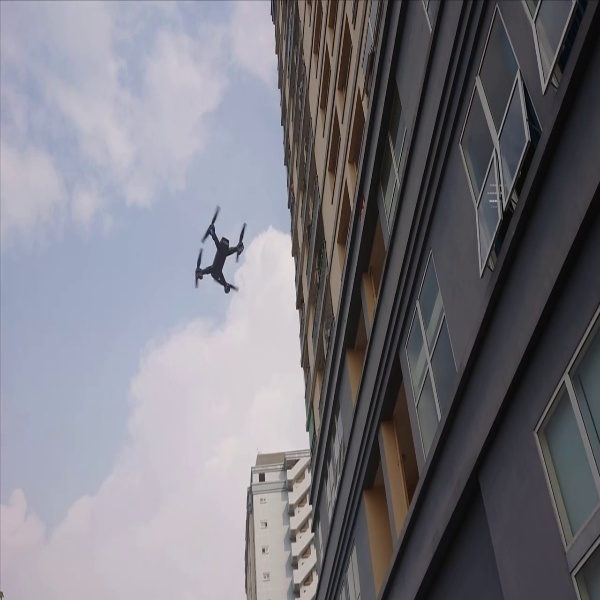drone: (185, 206, 255, 302)
